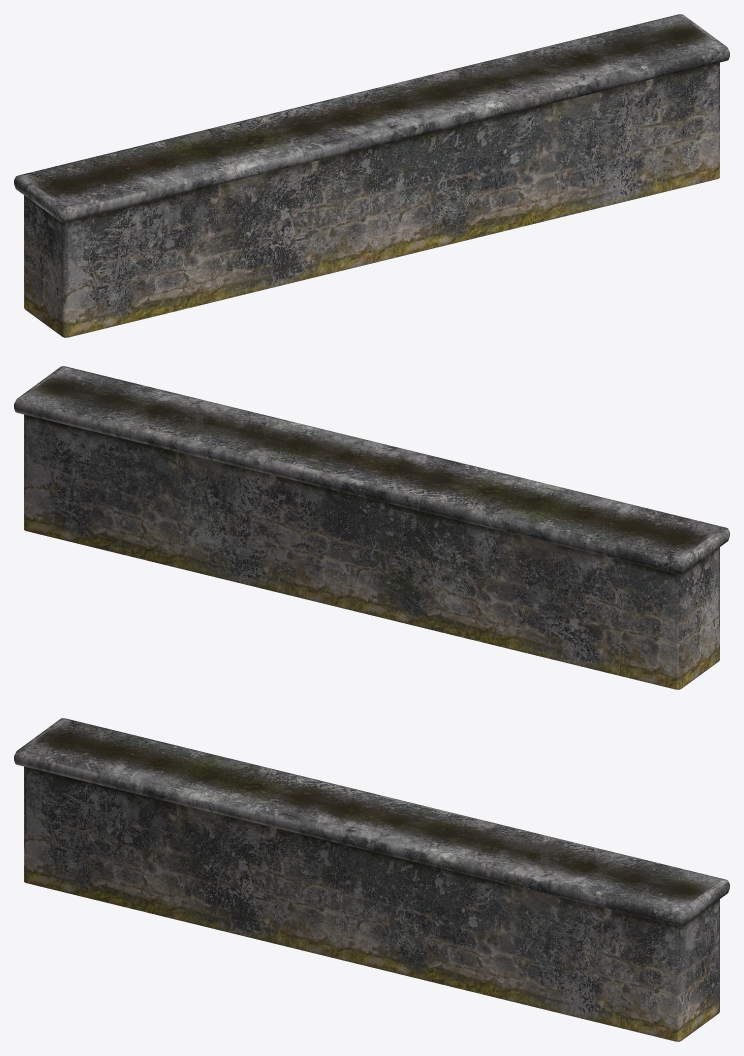
File: SM_fence_20.fbx
3 renders of one model, top to bottom at view 1: azimuth 30°, elevation 25°; view 2: azimuth 150°, elevation 25°; view 3: azimuth 330°, elevation 25°, orthographic.
Parts seen in each view (by area): view 1: SM_fence_20; view 2: SM_fence_20; view 3: SM_fence_20.
Part boxes in pixels (box(x1,y1,x2,y2)): SM_fence_20: box(14, 14, 729, 337); SM_fence_20: box(14, 366, 729, 689); SM_fence_20: box(14, 718, 729, 1041).
Bounding box in the file's own units: 261 × 49.2 × 33.05.
